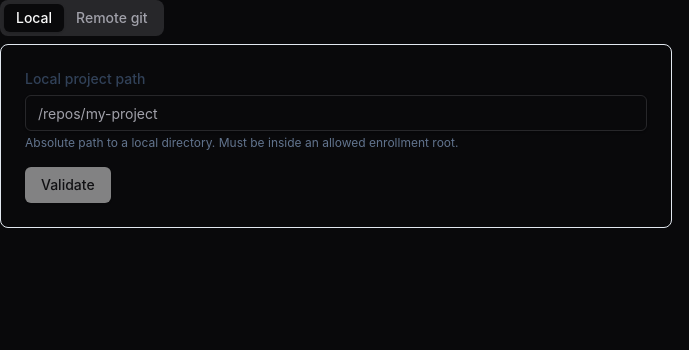
Test: EnrollmentForm — local enrollment commit (task 3.5) › shows an Enroll button after successful validation of an OpenSpec directory
Enter a path and validate.
Step 1. Type "/tmp/my-project" into the field labelled "Local project path" → (336,113), box [25,95,647,131]
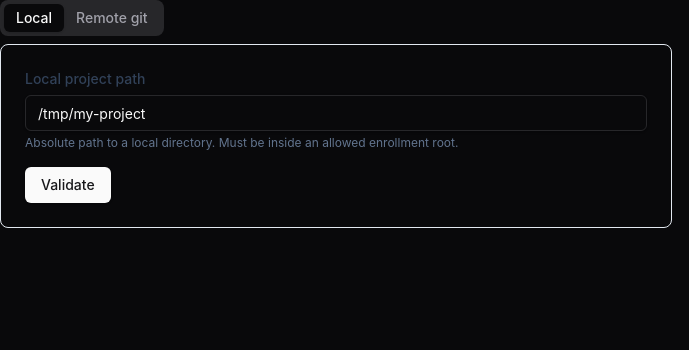
Step 2. Click the button "Validate" → (68,185), box [25,167,111,203]
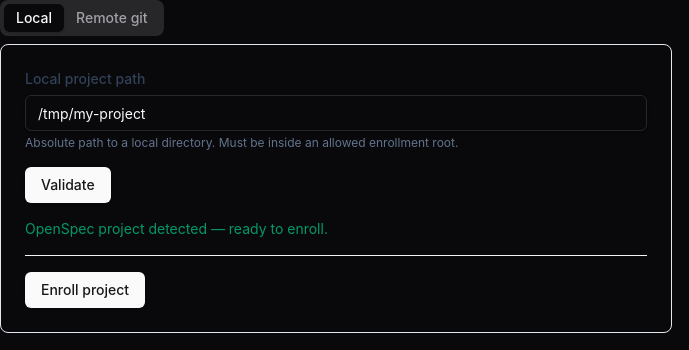
Expected: the button "Enroll project" is shown, [25,272,145,308]
